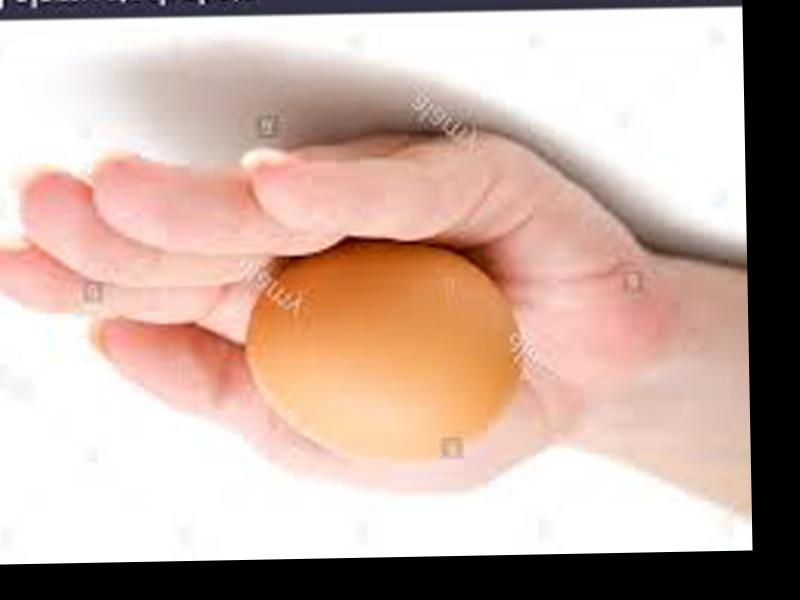Eggs: (246, 241, 525, 468)
